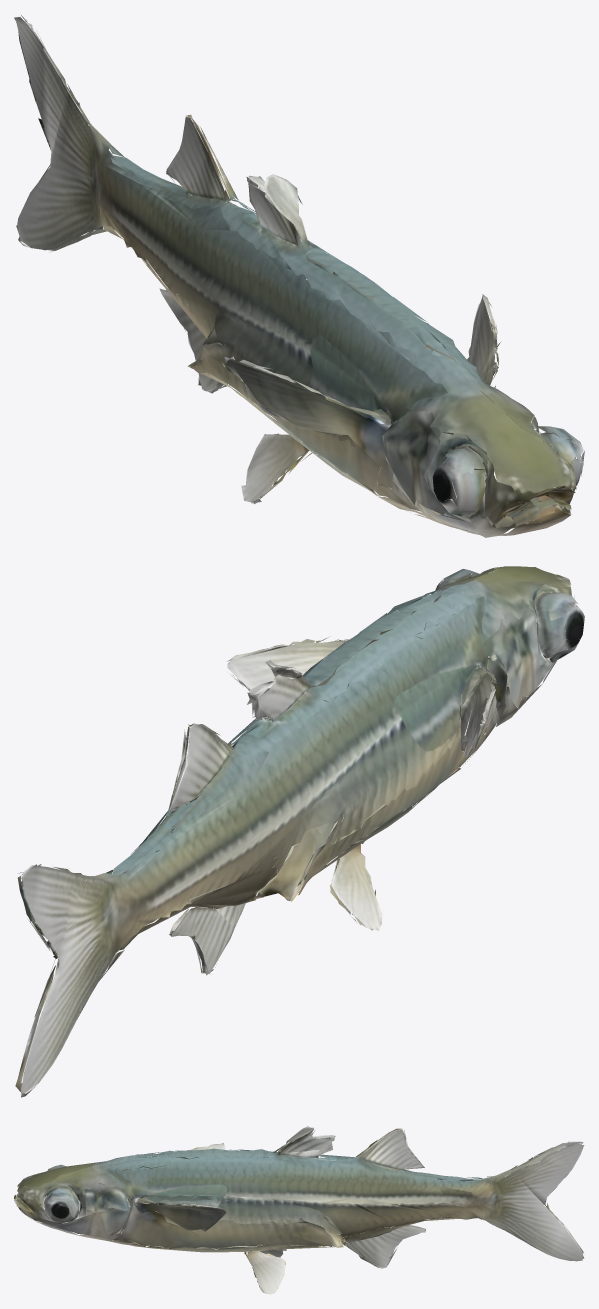
Rendered from silverside.glb.
3 views of the same model, one above another, from view 1: azimuth 30°, elevation 25°; view 2: azimuth 150°, elevation 25°; view 3: azimuth 270°, elevation 25° (orthographic). The views are drawn at different scales.
Visible parts, largest first — view 1: silverside.001; view 2: silverside.001; view 3: silverside.001.
Part boxes in pixels (<box>): silverside.001: <box>14,15,584,537</box>; silverside.001: <box>15,566,584,1097</box>; silverside.001: <box>14,1126,584,1294</box>.
Size of the model in its own units: 0.2796 by 0.2915 by 1.
1 material, 1 textured.
